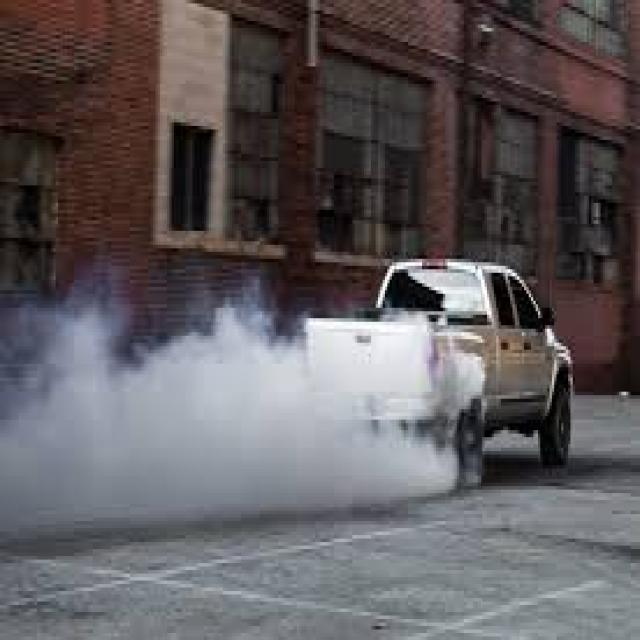smoke: (11, 325, 432, 507)
